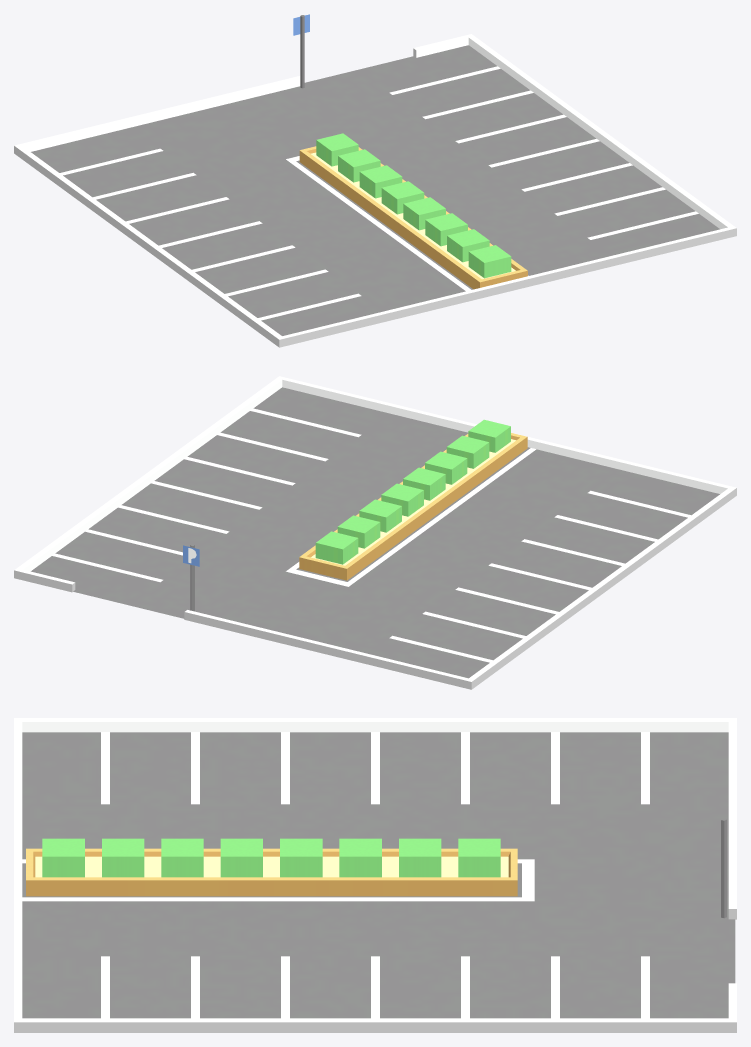
Rendered from parking_tile_2x2_1.glb.
3 renders of one model, top to bottom at view 1: azimuth 30°, elevation 25°; view 2: azimuth 150°, elevation 25°; view 3: azimuth 270°, elevation 25°, orthographic. The views are drawn at different scales.
Parts seen in each view (by area): view 1: parking_tile_2x2_1(Clone); view 2: parking_tile_2x2_1(Clone); view 3: parking_tile_2x2_1(Clone).
Part boxes in pixels (x1,y1,x2,y2): parking_tile_2x2_1(Clone): [14, 14, 736, 347]; parking_tile_2x2_1(Clone): [14, 376, 736, 689]; parking_tile_2x2_1(Clone): [14, 718, 736, 1032].
Size of the model in its own units: 16 by 2.47 by 16.07.
1 material, 1 textured.
